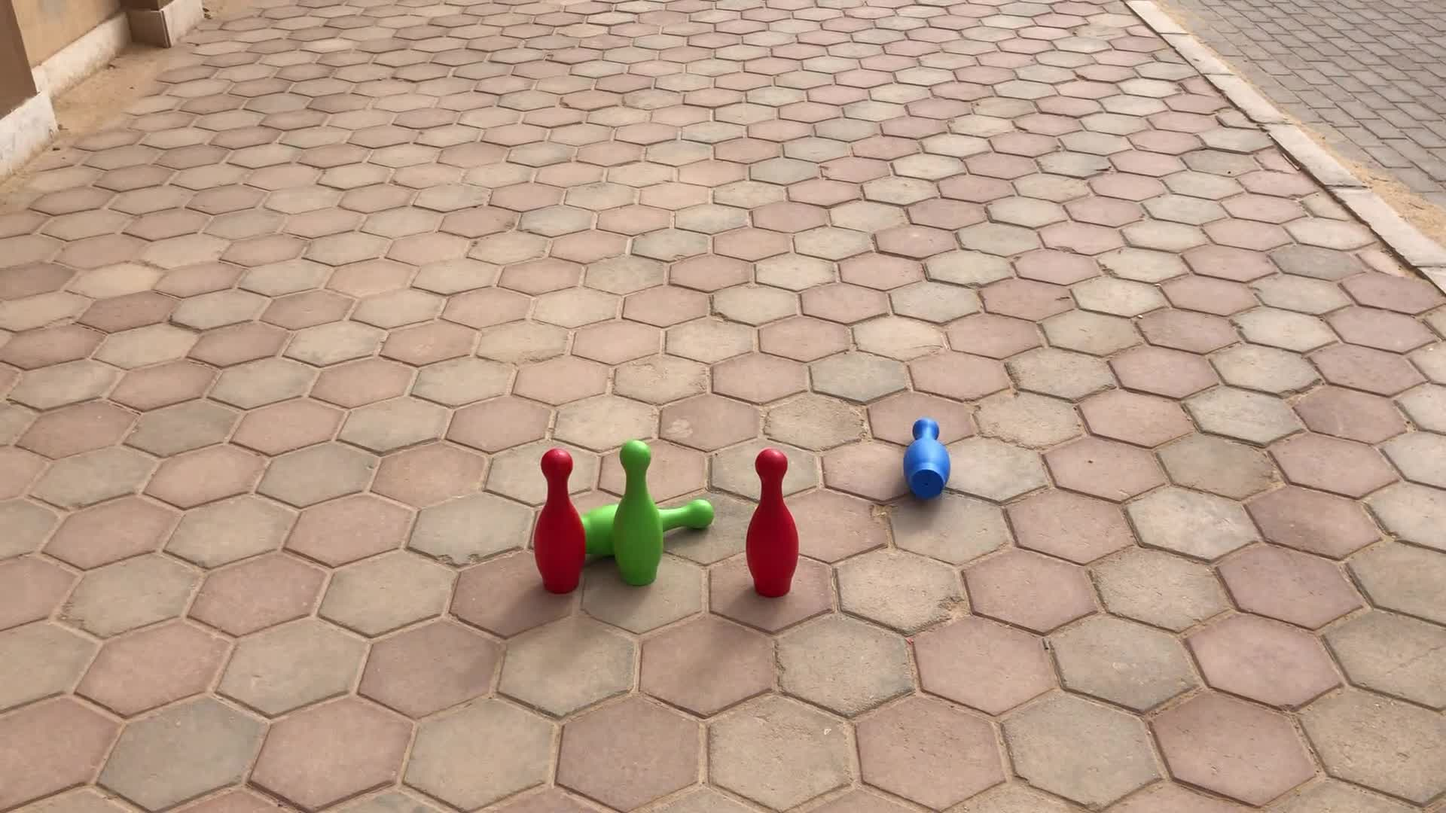bowling-pin: (746, 451, 798, 598), (534, 449, 585, 593), (615, 440, 664, 586), (905, 418, 952, 500)
